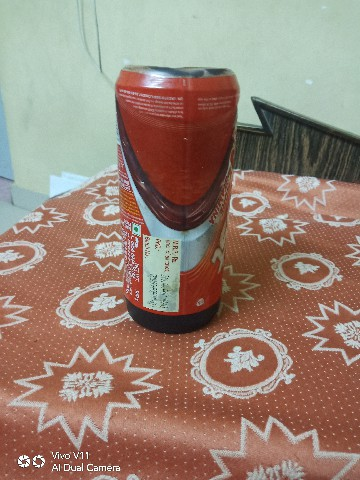boost big: (80, 48, 253, 340)
